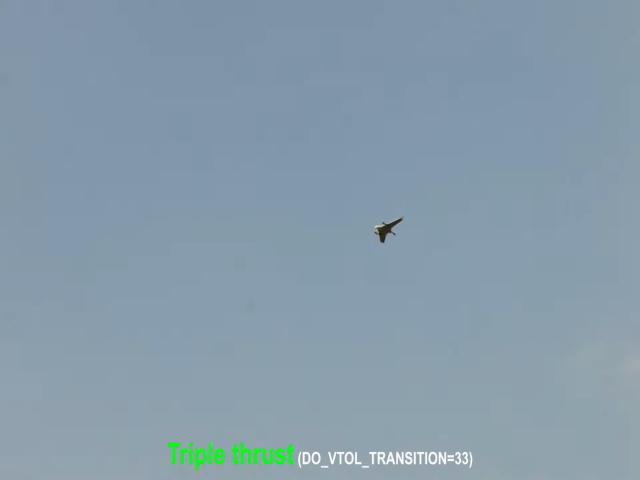plane: (374, 219, 401, 244)
